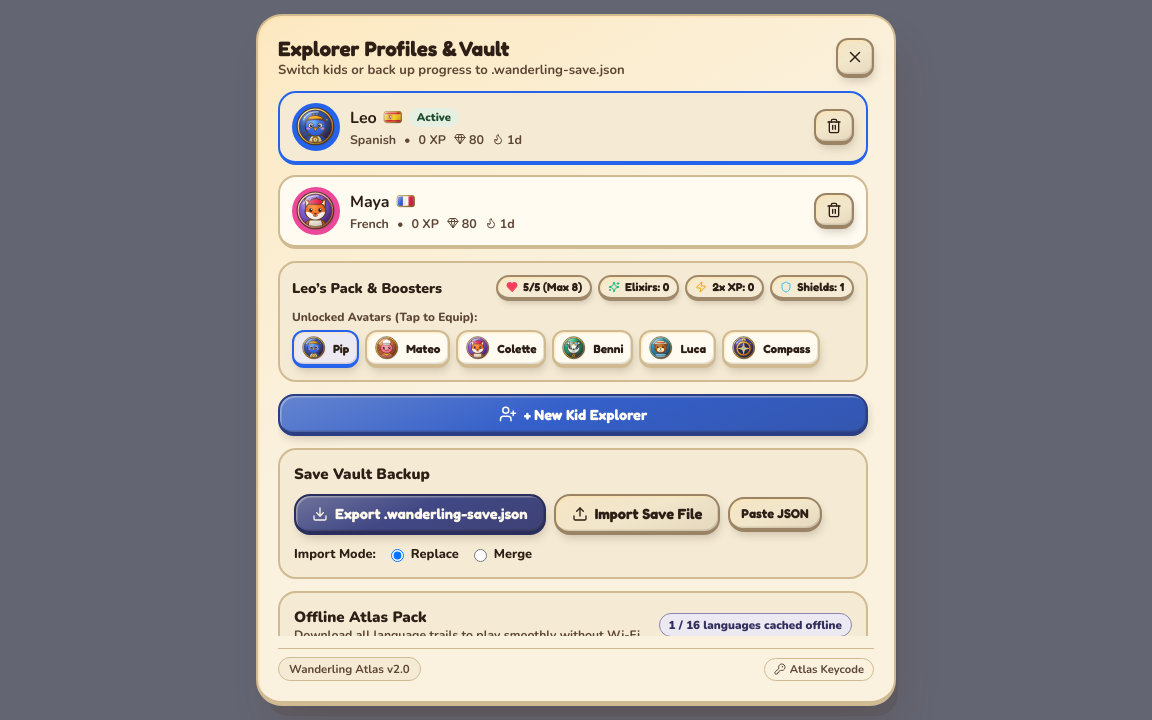
After-Hours Atlas: Adult Mode Easter Egg, Kid Quarantine & Bidirectional Parity › b.3) verifies secret keycode unlock (AFTERHOURS / COOKOUT) in store & ProfileVaultModal UI
Click the button "Atlas Keycode": (819,669) x1=764 y1=658 x2=874 y2=680
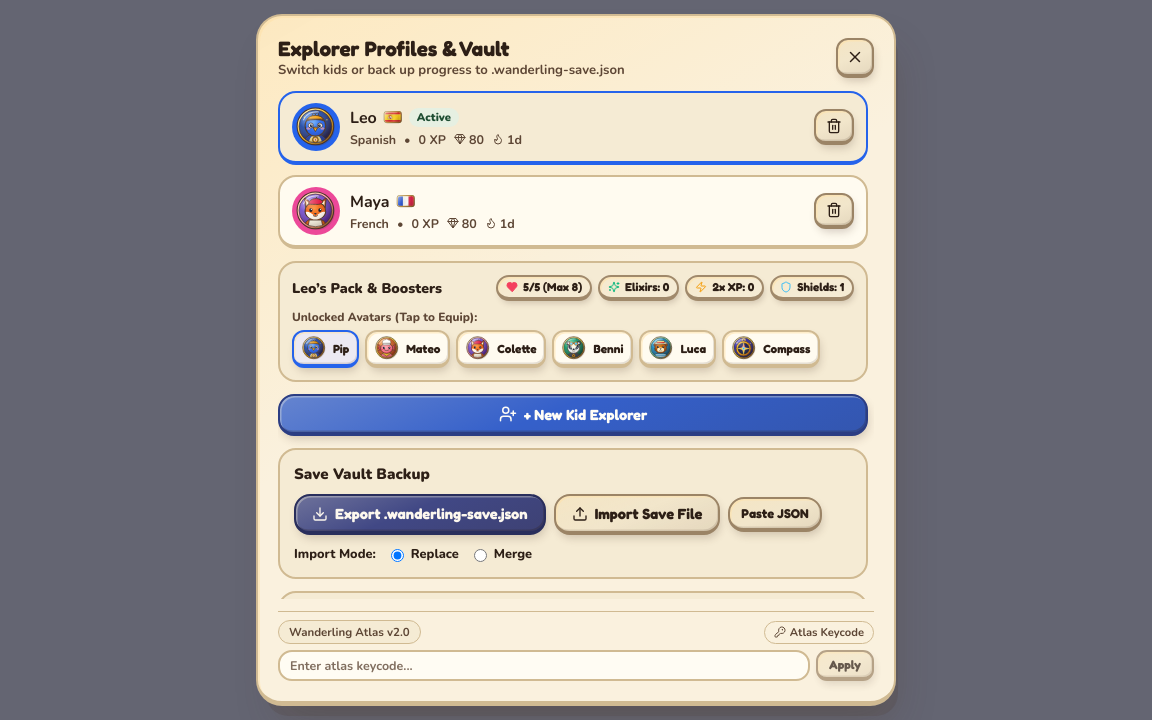
In the field labelled "Enter atlas keycode...": (544,666) x1=278 y1=650 x2=810 y2=681, type "COOKOUT"
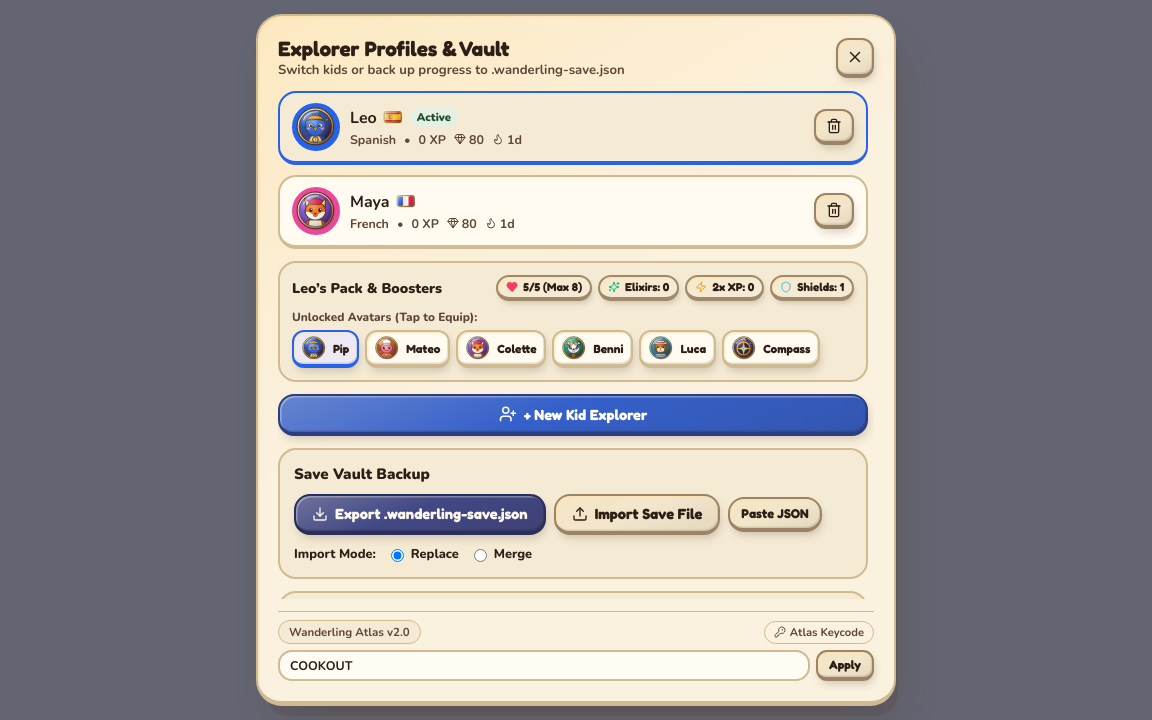
Submit the form named "Atlas Keycode", box x1=278 y1=650 x2=874 y2=681
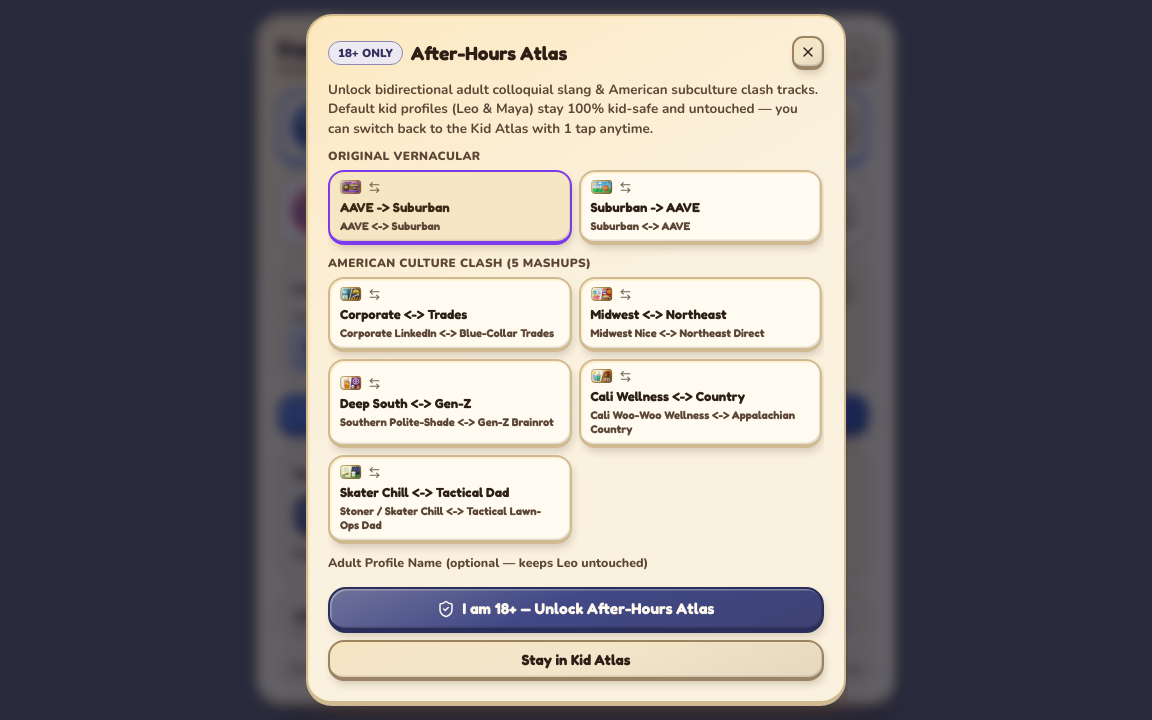
Check: the dialog named "After-Hours Atlas 18+ Confirmation" is shown
